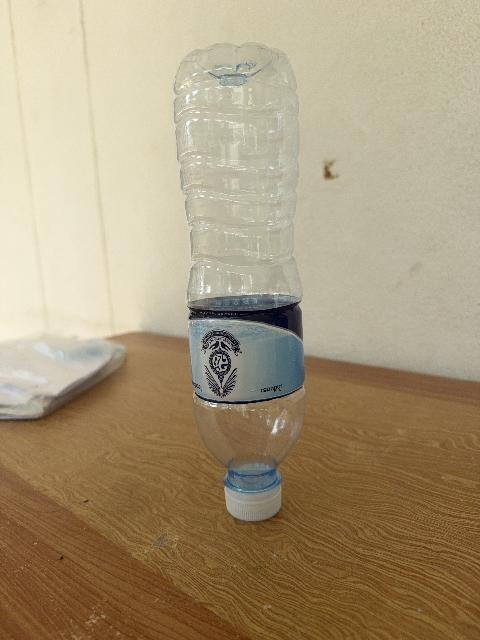bottle: (175, 44, 305, 520)
